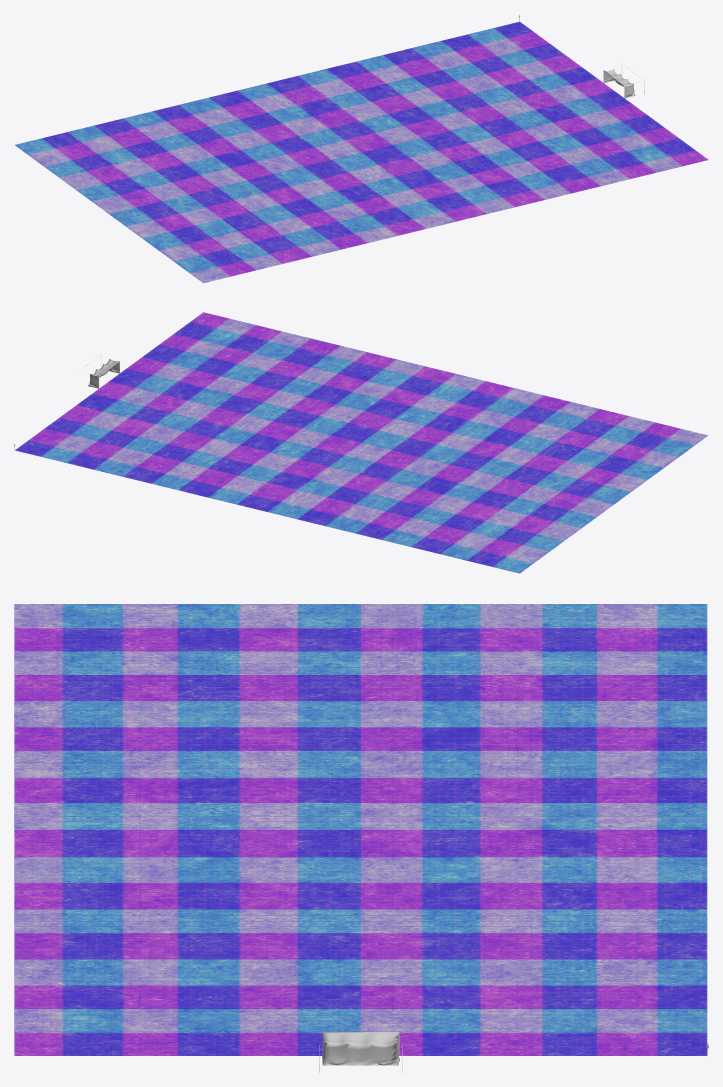
The model's file is Campo_base.FBX.
The picture shows the model from 3 angles, top to bottom: view 1: azimuth 30°, elevation 25°; view 2: azimuth 150°, elevation 25°; view 3: azimuth 270°, elevation 25°; orthographic projection. The views are drawn at different scales.
Visible parts, largest first — view 1: Cesped; view 2: Cesped; view 3: Cesped, _red_porteria.
Boxes of the visible parts, box(x1,y1,x2,y2) form: Cesped: box(15, 21, 708, 283); Cesped: box(15, 312, 708, 573); Cesped: box(14, 604, 707, 1055); _red_porteria: box(322, 1033, 399, 1065).
Size of the model in its own units: 10932 by 294 by 6820.
